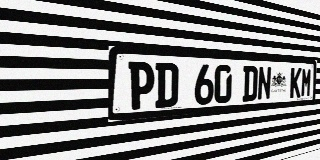0: (214, 65, 232, 104)
6: (194, 64, 214, 105)
D: (155, 62, 179, 108), (242, 66, 258, 102)
K: (290, 67, 302, 98)
M: (300, 68, 312, 97)
N: (257, 66, 272, 101)
P: (128, 61, 155, 110)
